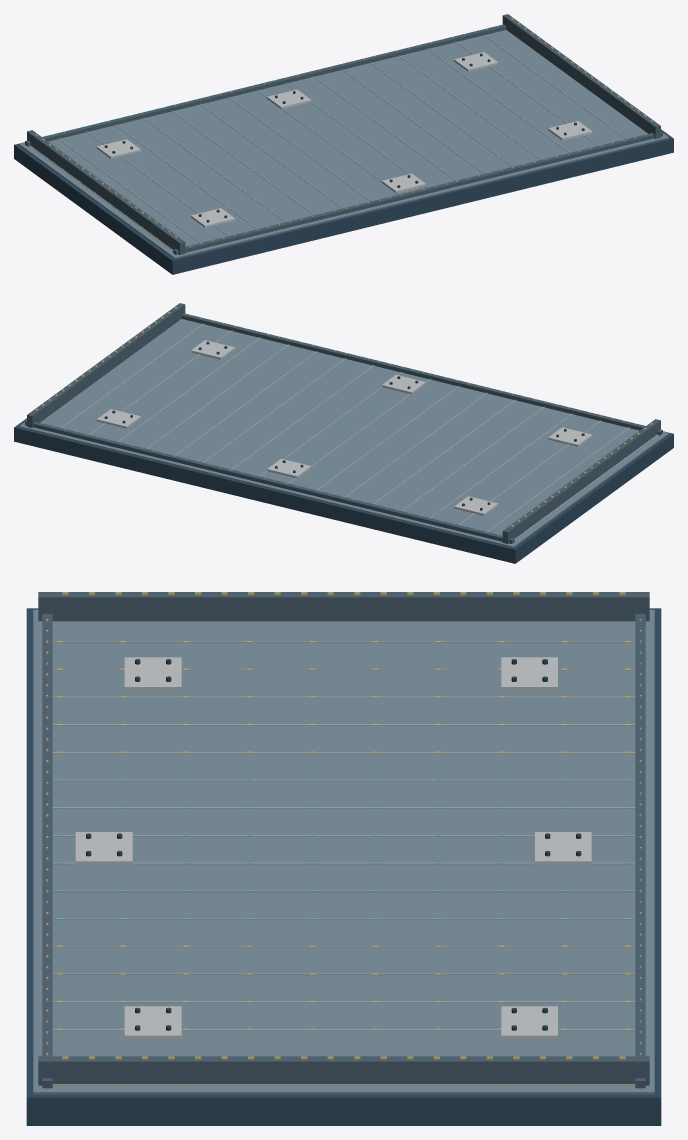
Rendered from 00_L79_Industrial3DHybridBondingBase.glb.
3 renders of one model, top to bottom at view 1: azimuth 30°, elevation 25°; view 2: azimuth 150°, elevation 25°; view 3: azimuth 270°, elevation 25°, orthographic. The views are drawn at different scales.
Visible parts, largest first — view 1: Industrial3DHybridBondingBase_Node_0001, Industrial3DHybridBondingBase_Node_0000, Industrial3DHybridBondingBase_Node_0245, Industrial3DHybridBondingBase_Node_0200, Industrial3DHybridBondingBase_Node_0313, Industrial3DHybridBondingBase_Node_0290, Industrial3DHybridBondingBase_Node_0356, Industrial3DHybridBondingBase_Node_0336, Industrial3DHybridBondingBase_Node_0341, Industrial3DHybridBondingBase_Node_0361, Industrial3DHybridBondingBase_Node_0346, Industrial3DHybridBondingBase_Node_0351; view 2: Industrial3DHybridBondingBase_Node_0001, Industrial3DHybridBondingBase_Node_0000, Industrial3DHybridBondingBase_Node_0200, Industrial3DHybridBondingBase_Node_0245, Industrial3DHybridBondingBase_Node_0313, Industrial3DHybridBondingBase_Node_0290, Industrial3DHybridBondingBase_Node_0356, Industrial3DHybridBondingBase_Node_0341, Industrial3DHybridBondingBase_Node_0346, Industrial3DHybridBondingBase_Node_0351, Industrial3DHybridBondingBase_Node_0361, Industrial3DHybridBondingBase_Node_0336; view 3: Industrial3DHybridBondingBase_Node_0001, Industrial3DHybridBondingBase_Node_0000, Industrial3DHybridBondingBase_Node_0290, Industrial3DHybridBondingBase_Node_0313, Industrial3DHybridBondingBase_Node_0200, Industrial3DHybridBondingBase_Node_0245, Industrial3DHybridBondingBase_Node_0351, Industrial3DHybridBondingBase_Node_0346, Industrial3DHybridBondingBase_Node_0356, Industrial3DHybridBondingBase_Node_0341, Industrial3DHybridBondingBase_Node_0336, Industrial3DHybridBondingBase_Node_0361 (+16 smaller).
Part boxes in pixels (x1=…): Industrial3DHybridBondingBase_Node_0001: x1=19, y1=30, x2=668, y2=258; Industrial3DHybridBondingBase_Node_0000: x1=14, y1=129, x2=673, y2=274; Industrial3DHybridBondingBase_Node_0245: x1=173, y1=131, x2=662, y2=254; Industrial3DHybridBondingBase_Node_0200: x1=25, y1=24, x2=506, y2=146; Industrial3DHybridBondingBase_Node_0313: x1=502, y1=14, x2=660, y2=138; Industrial3DHybridBondingBase_Node_0290: x1=27, y1=130, x2=185, y2=254; Industrial3DHybridBondingBase_Node_0356: x1=381, y1=173, x2=425, y2=193; Industrial3DHybridBondingBase_Node_0336: x1=96, y1=139, x2=140, y2=158; Industrial3DHybridBondingBase_Node_0341: x1=454, y1=52, x2=498, y2=71; Industrial3DHybridBondingBase_Node_0361: x1=267, y1=89, x2=311, y2=109; Industrial3DHybridBondingBase_Node_0346: x1=191, y1=208, x2=235, y2=227; Industrial3DHybridBondingBase_Node_0351: x1=548, y1=121, x2=592, y2=140; Industrial3DHybridBondingBase_Node_0001: x1=19, y1=319, x2=668, y2=547; Industrial3DHybridBondingBase_Node_0000: x1=14, y1=418, x2=673, y2=563; Industrial3DHybridBondingBase_Node_0200: x1=25, y1=420, x2=514, y2=543; Industrial3DHybridBondingBase_Node_0245: x1=181, y1=313, x2=662, y2=435; Industrial3DHybridBondingBase_Node_0313: x1=27, y1=303, x2=185, y2=427; Industrial3DHybridBondingBase_Node_0290: x1=502, y1=419, x2=660, y2=543; Industrial3DHybridBondingBase_Node_0356: x1=381, y1=374, x2=425, y2=394; Industrial3DHybridBondingBase_Node_0341: x1=96, y1=409, x2=140, y2=428; Industrial3DHybridBondingBase_Node_0346: x1=548, y1=427, x2=592, y2=446; Industrial3DHybridBondingBase_Node_0351: x1=191, y1=340, x2=235, y2=359; Industrial3DHybridBondingBase_Node_0361: x1=267, y1=458, x2=311, y2=478; Industrial3DHybridBondingBase_Node_0336: x1=454, y1=496, x2=498, y2=515; Industrial3DHybridBondingBase_Node_0001: x1=33, y1=609, x2=654, y2=1094; Industrial3DHybridBondingBase_Node_0000: x1=26, y1=608, x2=661, y2=1125; Industrial3DHybridBondingBase_Node_0290: x1=38, y1=592, x2=649, y2=621; Industrial3DHybridBondingBase_Node_0313: x1=38, y1=1056, x2=649, y2=1085; Industrial3DHybridBondingBase_Node_0200: x1=635, y1=614, x2=645, y2=1088; Industrial3DHybridBondingBase_Node_0245: x1=42, y1=614, x2=52, y2=1088; Industrial3DHybridBondingBase_Node_0351: x1=124, y1=1006, x2=181, y2=1039; Industrial3DHybridBondingBase_Node_0346: x1=124, y1=657, x2=181, y2=690; Industrial3DHybridBondingBase_Node_0356: x1=75, y1=832, x2=132, y2=865; Industrial3DHybridBondingBase_Node_0341: x1=501, y1=1006, x2=557, y2=1039; Industrial3DHybridBondingBase_Node_0336: x1=501, y1=657, x2=557, y2=690; Industrial3DHybridBondingBase_Node_0361: x1=535, y1=832, x2=591, y2=865.
Size of the model in its own units: 22.45 by 1.2 by 12.3.
